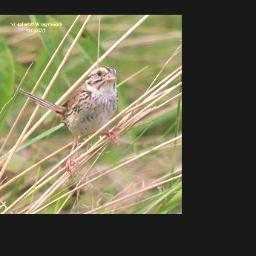Sparrow: (18, 66, 122, 181)
